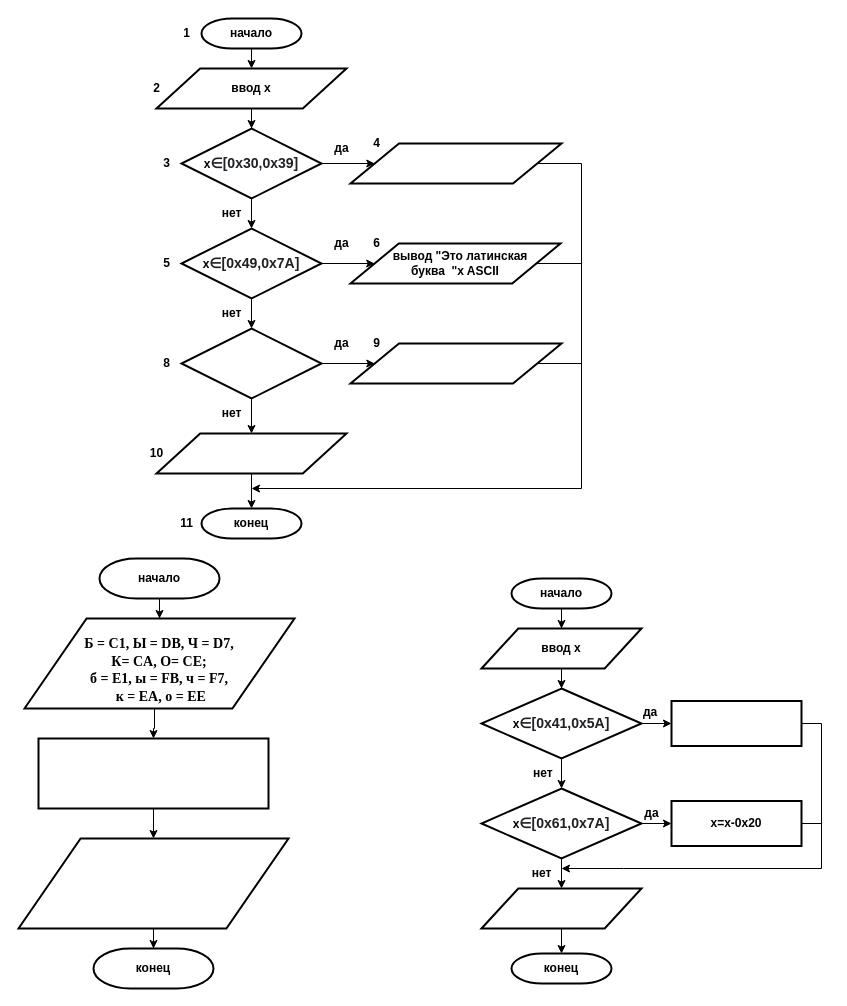
Image size: 847x1006. Some labels were removed from this diagram. Here are the shapes that lost their labels. From the top down, the box of each, then its label:
(349, 142, 562, 184): вывод "Это цифра" x ASCII
(180, 327, 322, 399): x ∈[0xC0,0xFF]
(349, 342, 562, 384): вывод "Это русская буква"x Windows-1251
(155, 432, 347, 474): вывод "'это не буква и не цифра"
(670, 700, 802, 746): x=x+0x20
(37, 737, 269, 809): Б-б=20, Ы-ы=20, Ч-ч=20, К-к=20, О-о=20
(17, 837, 289, 929): Буквы верхнего и нижнего регистра отличны на 20
(480, 887, 642, 929): вывод х
